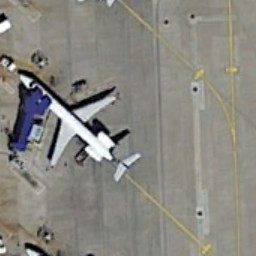Airplane: (15, 65, 143, 190)
